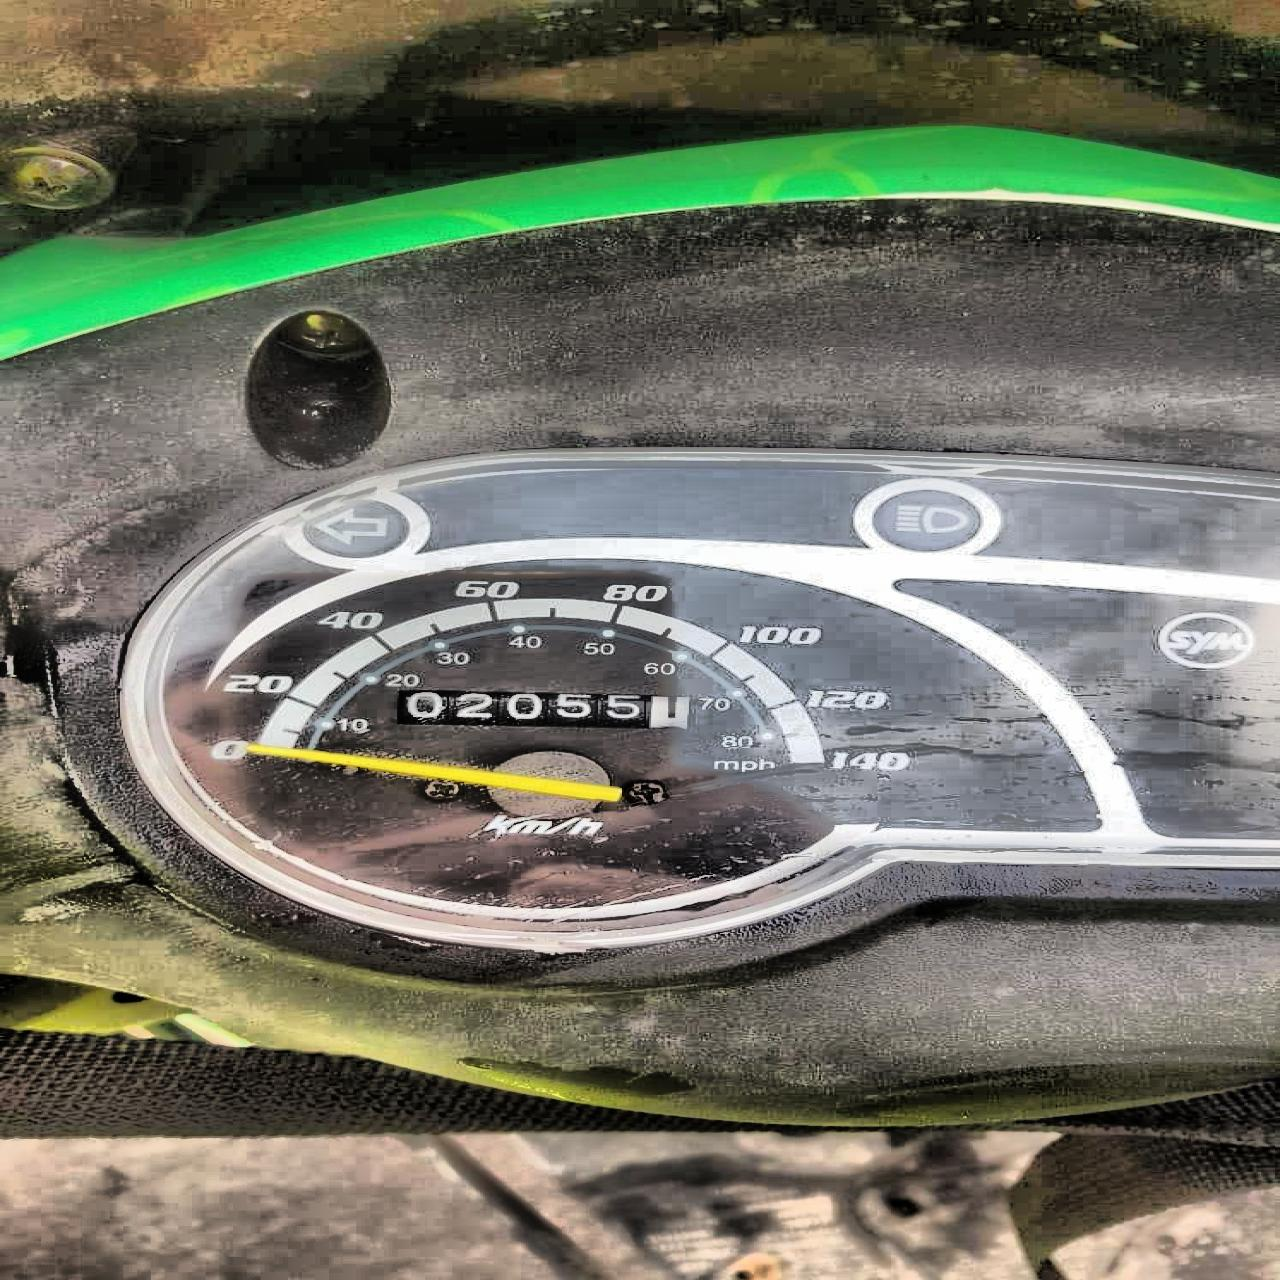0: (504, 692, 542, 723), (404, 690, 442, 720)
1: (656, 692, 686, 721)
2: (451, 690, 497, 722)
5: (552, 692, 591, 723), (604, 692, 642, 722)
odometer: (393, 687, 700, 731)
